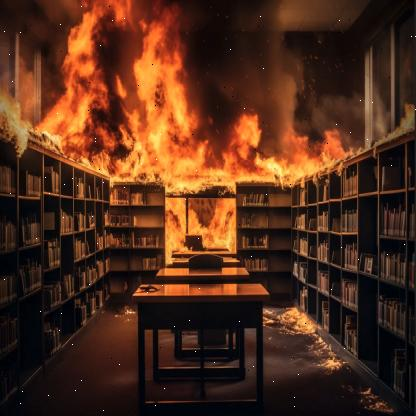fire: (33, 6, 350, 259)
smoke: (181, 0, 389, 149), (0, 5, 71, 117)
